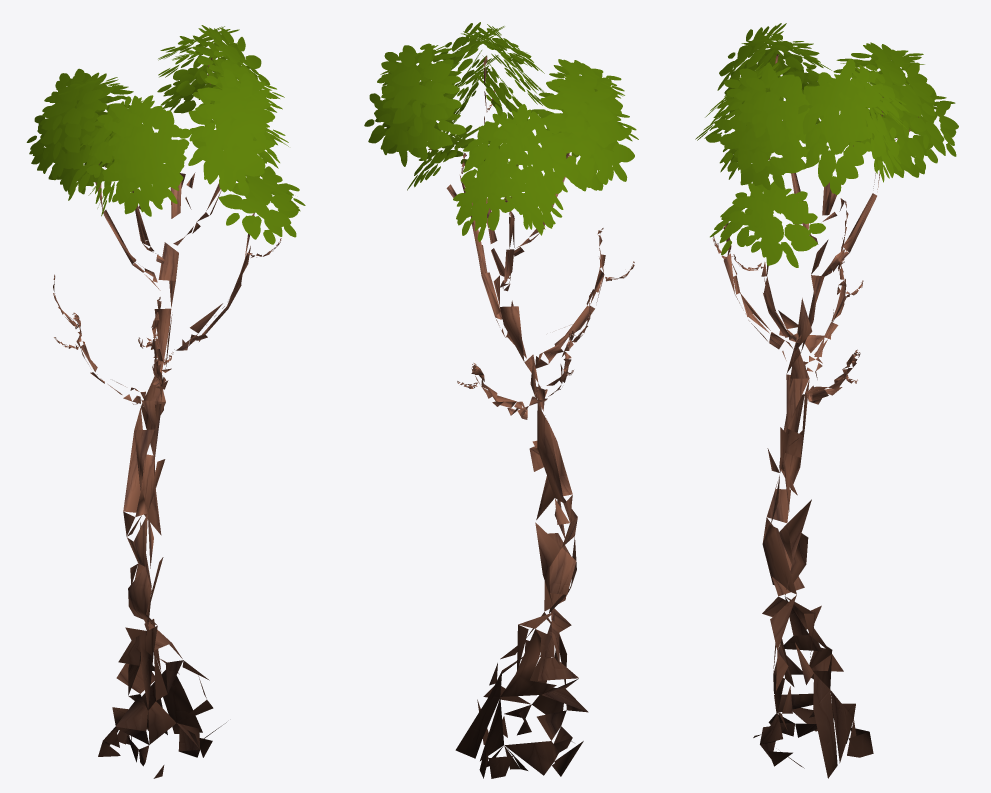
The model's file is CommonTree_4_lod1.glb.
3 renders of one model, left to right at view 1: azimuth 30°, elevation 25°; view 2: azimuth 150°, elevation 25°; view 3: azimuth 270°, elevation 25°, orthographic. The views are drawn at different scales.
Visible parts, largest first — view 1: CommonTree_4; view 2: CommonTree_4; view 3: CommonTree_4.
Boxes of the visible parts, x1,y1,x2,y2 form: CommonTree_4: (26,25,305,778); CommonTree_4: (364,22,638,778); CommonTree_4: (695,23,958,778).
Size of the model in its own units: 3.25 by 8.77 by 3.14.
2 materials, 2 textured.
